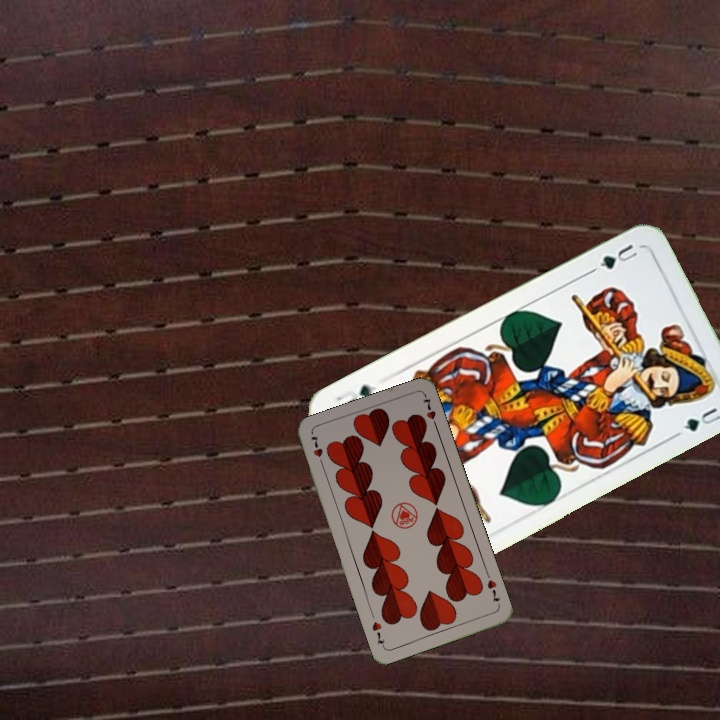GU: (587, 239, 640, 275)
H7: (307, 431, 327, 470), (483, 576, 503, 605)
